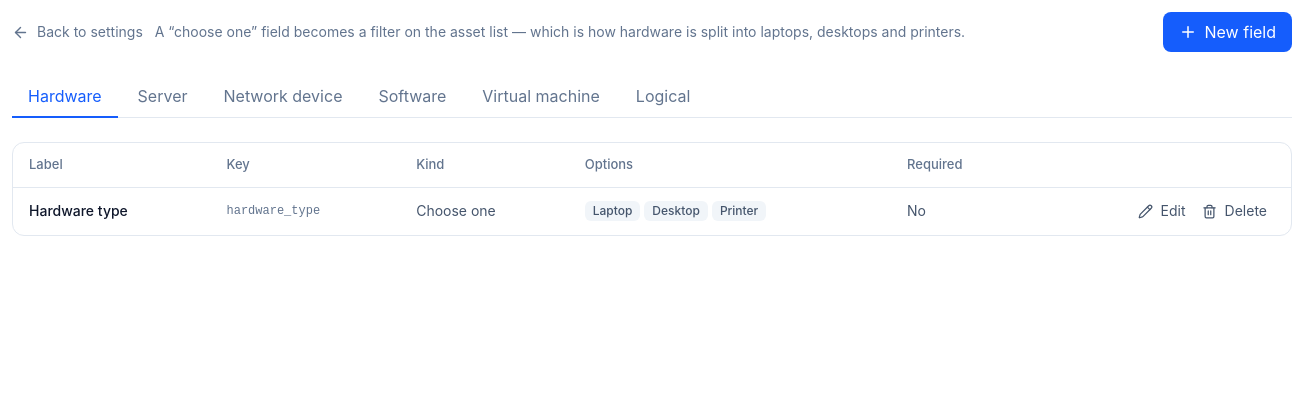
switching CI type shows that type instead
The image size is (1304, 417).
expect the text "Hardware type" is shown: met, box [13, 187, 210, 235]
Click the tab "Server" at coordinates (163, 97), box [122, 76, 204, 118]
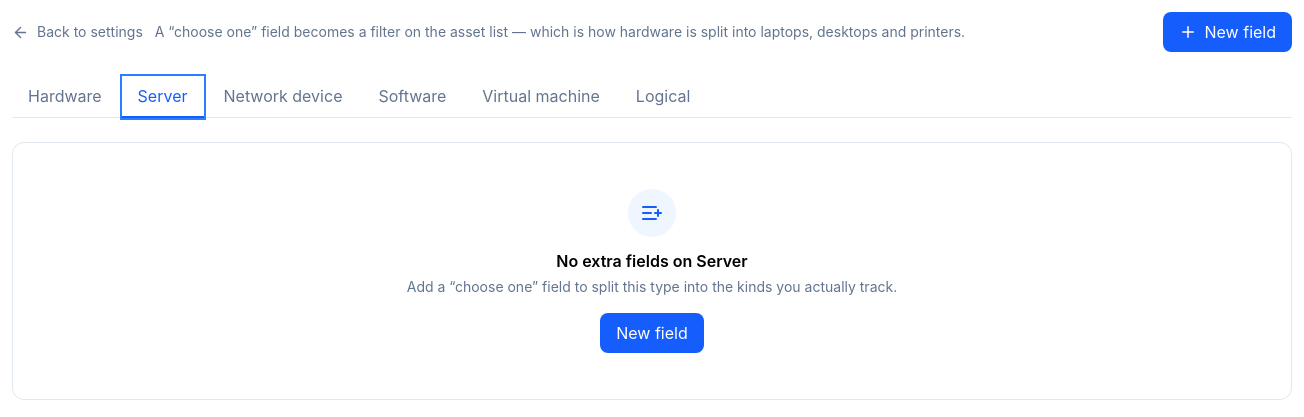
expect the text "Hardware type" is gone: met
expect the heading "No extra fields on Server" is shown: met, box [556, 251, 748, 271]
